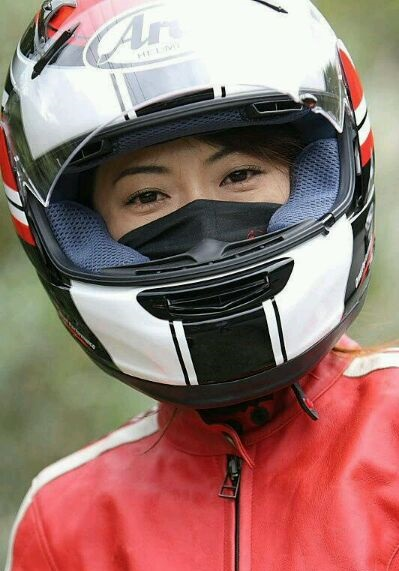face_mask: (99, 75, 305, 389)
